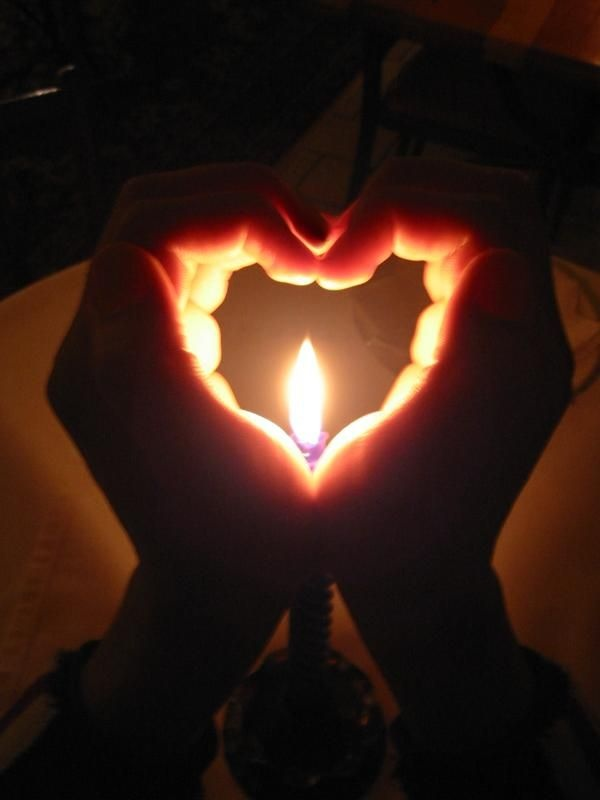fire: (281, 333, 331, 445)
